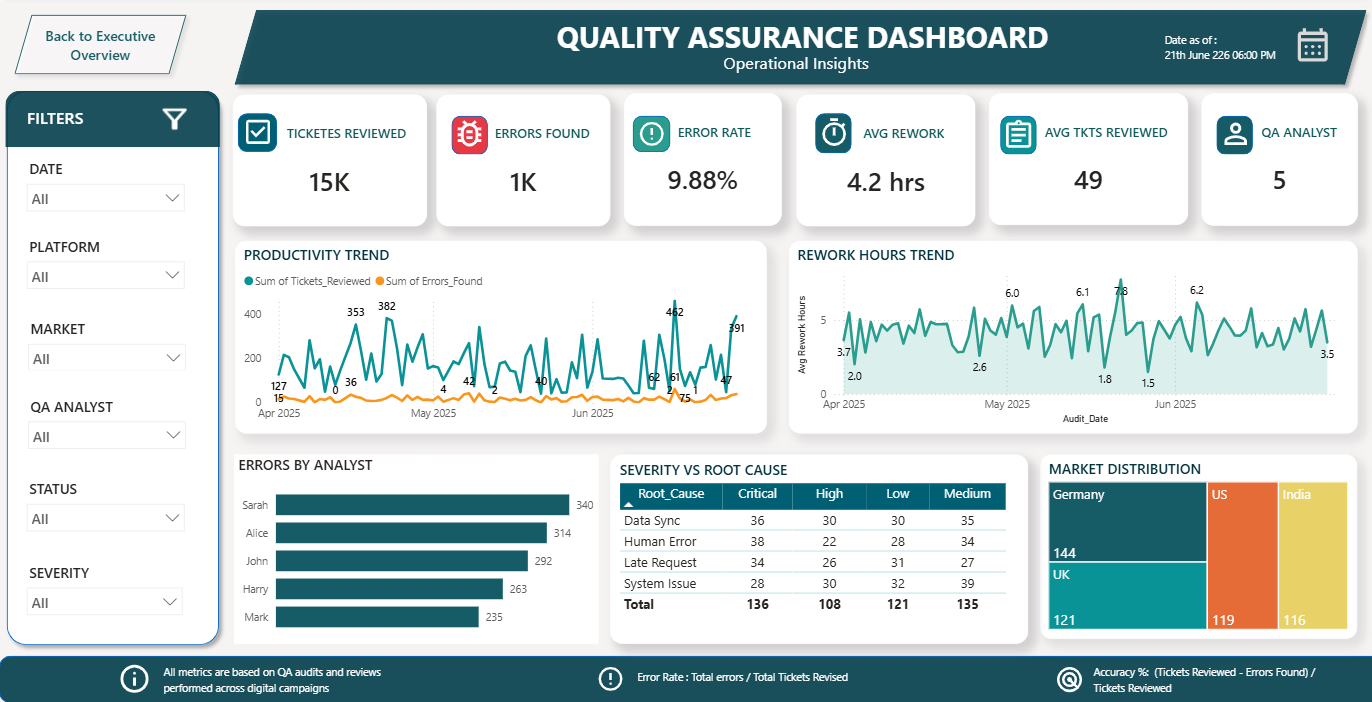

The dashboard page shown, as its layout file describes it:
{"tool":"powerbi","page":{"name":"OPERATIONAL INSIGHTS","canvas":[1570,800],"ordinal":1},"visuals":[{"type":"group","id":"g1","title":"Group 3","box":[260,0,1310,104.3],"z":0},{"type":"shape","box":[0,92.9,260,650],"z":0,"group":"g9"},{"type":"slicer","fields":{"Values":["Campaign_QA_Audit.Severity"]},"box":[21.2,635.5,197.7,85.3],"z":0,"group":"g11"},{"type":"shape","box":[7,101.1,245.1,64.6],"z":1000,"group":"g9"},{"type":"group","id":"g2","title":"Group 8","box":[267.1,105.7,221.4,150],"z":1000},{"type":"slicer","fields":{"Values":["Campaign_QA_Audit.Platform"]},"box":[21.2,263.2,200.4,88.4],"z":1000,"group":"g11"},{"type":"group","id":"g3","title":"Group 4","box":[0,92.9,260,650],"z":2000},{"type":"slicer","fields":{"Values":["Campaign_QA_Audit.QA_Analyst"]},"box":[22.6,446.2,200,70],"z":2000,"group":"g11"},{"type":"group","id":"g4","title":"Group 9","box":[499,105.7,198.6,150],"z":3000},{"type":"slicer","fields":{"Values":["Campaign_QA_Audit.Status"]},"box":[21.2,539.8,200.4,85.4],"z":3000,"group":"g11"},{"type":"slicer","fields":{"Values":["Campaign_QA_Audit.Market"]},"box":[22.8,357.7,200,64.3],"z":4000,"group":"g11"},{"type":"shape","box":[0,745.7,1587.1,54.3],"z":4000},{"type":"group","id":"g5","title":"Group 11","box":[712.9,104.3,180,151.4],"z":5000},{"type":"slicer","fields":{"Values":["Calendar.Date.Variation.Date Hierarchy.Month","Calendar.Date.Variation.Date Hierarchy.Day"]},"box":[21.2,174.8,200.4,80.7],"z":5000,"group":"g11"},{"type":"group","id":"g6","title":"Group 12","box":[910,105.7,204.1,150.6],"z":6000},{"type":"lineChart","title":"PRODUCTIVITY TREND","fields":{"Y":["Sum(QA_Productivity.Tickets_Reviewed)","Sum(QA_Productivity.Errors_Found)"],"Category":["Campaign_QA_Audit.Audit_Date"]},"box":[269.1,272.8,606.2,220],"z":7000},{"type":"group","id":"g7","title":"Group 13","box":[1130,104.3,227.1,150],"z":8000},{"type":"cardVisual","fields":{"Data":["Campaign_QA_Audit.Avg Tickets Reviewed"]},"box":[1130,104.3,227.1,150],"z":9000,"group":"g7"},{"type":"cardVisual","fields":{"Data":["Campaign_QA_Audit.TTotal Tickets Reviewed"]},"box":[267.1,105.7,221.4,150],"z":9000,"group":"g14"},{"type":"cardVisual","fields":{"Data":["Sum(QA_Productivity.Errors_Found)"]},"box":[499,105.7,198.6,150],"z":9000,"group":"g4"},{"type":"areaChart","title":"REWORK HOURS TREND","fields":{"Category":["Campaign_QA_Audit.Audit_Date"],"Y":["Campaign_QA_Audit.Avg Rework Hours"]},"box":[901.4,272.9,648.6,220],"z":9000},{"type":"shape","box":[260,0,1310,103.3],"z":10000,"group":"g1"},{"type":"group","id":"g8","title":"Group 14","box":[1371.4,104.3,178.6,151.4],"z":10000},{"type":"cardVisual","fields":{"Data":["Count(Campaign_QA_Audit.QA_Analyst)"]},"box":[1371.4,104.3,178.6,151.4],"z":10000,"group":"g8"},{"type":"textbox","box":[718.6,51.9,381.4,44.3],"z":11000,"group":"g1"},{"type":"cardVisual","fields":{"Data":["Campaign_QA_Audit.Error Rate %"]},"box":[712.9,104.3,180,151.4],"z":11000,"group":"g13"},{"type":"shape","box":[1142.9,130,41.4,44.3],"z":11000,"group":"g7"},{"type":"treemap","title":"MARKET DISTRIBUTION","fields":{"Group":["Campaign_QA_Audit.Market"],"Values":["CountNonNull(Campaign_QA_Audit.Campaign_ID)"]},"box":[1188.6,515.7,361.4,210],"z":11000},{"type":"group","id":"g9","title":"Group 1","box":[0,92.9,260,650],"z":12000,"group":"g3"},{"type":"cardVisual","fields":{"Data":["Campaign_QA_Audit.Avg Rework Label"]},"box":[910,105.7,204.1,150.6],"z":12000,"group":"g10"},{"type":"shape","box":[516.1,130,41.4,44.3],"z":12000,"group":"g4"},{"type":"shape","box":[1388.5,130,41.4,44.3],"z":12000,"group":"g8"},{"type":"barChart","title":"ERRORS BY ANALYST","fields":{"Category":["QA_Productivity.QA_Analyst"],"Y":["Sum(QA_Productivity.Errors_Found)"]},"box":[268.6,515.7,415.7,215.7],"z":12000},{"type":"group","id":"g10","title":"Group 5","box":[910,105.7,204.1,150.6],"z":13000,"group":"g6"},{"type":"shape","box":[273.3,127.1,44.9,44.3],"z":13000,"group":"g14"},{"type":"group","id":"g11","title":"Group 2","box":[21.2,174.8,201.6,546.1],"z":13000,"group":"g3"},{"type":"pivotTable","title":"SEVERITY VS ROOT CAUSE","fields":{"Rows":["Campaign_QA_Audit.Root_Cause"],"Values":["CountNonNull(Campaign_QA_Audit.Campaign_ID)"],"Columns":["Campaign_QA_Audit.Severity"]},"box":[697.1,515.7,477.1,215.7],"z":13000},{"type":"group","id":"g12","title":"Group 6","box":[712.9,104.3,180,151.4],"z":14000,"group":"g5"},{"type":"textbox","box":[22.9,114.5,82.9,41.4],"z":14000,"group":"g3"},{"type":"image","box":[929.1,131.6,48.6,35.7],"z":14000},{"type":"actionButton","box":[182.9,114.5,35.7,38.6],"z":15000,"group":"g3"},{"type":"image","box":[267.1,130,57.1,37.1],"z":15000},{"type":"image","box":[504.3,130,64.3,40],"z":16000},{"type":"image","box":[718.6,134.3,51.4,32.9],"z":17000},{"type":"image","box":[1475.7,21.4,45.7,55.7],"z":18000},{"type":"shape","box":[932,127.3,41.4,45.7],"z":18000,"group":"g10"},{"type":"shape","box":[723.1,129.6,42.9,41.4],"z":19000,"group":"g13"},{"type":"image","box":[1372.9,131.4,75.7,38.6],"z":19000},{"type":"image","box":[1141.4,132.9,44.3,38.6],"z":20000},{"type":"group","id":"g13","title":"Group 10","box":[712.9,104.3,180,151.4],"z":20001,"group":"g12"},{"type":"actionButton","box":[8.6,5.7,214.3,85.7],"z":21000},{"type":"group","id":"g14","title":"Group 7","box":[267.1,105.7,221.4,150],"z":22000,"group":"g2"},{"type":"image","box":[1200,755.7,44.3,34.3],"z":22000},{"type":"textbox","box":[182.9,750,450,50],"z":23000},{"type":"textbox","box":[722.9,755.7,288.6,40],"z":24000},{"type":"textbox","box":[1244.3,750,300,50],"z":25000},{"type":"image","box":[130,752.9,50,38.6],"z":26000},{"type":"image","box":[671.4,755.7,51.4,32.9],"z":27000},{"type":"textbox","box":[1324.3,28.6,225.7,48.6],"z":28000}]}

Visuals, with their boxes in screenshot pixels (x1, y1, x2, y2), scaled from the page's 1570x800 canvas onto the 1372x702 screenshot:
"Group 3" group: (left=227, top=0, right=1371, bottom=92)
shape: (left=0, top=82, right=227, bottom=652)
slicer - Campaign_QA_Audit.Severity: (left=19, top=558, right=191, bottom=633)
shape: (left=6, top=89, right=220, bottom=145)
"Group 8" group: (left=233, top=93, right=427, bottom=224)
slicer - Campaign_QA_Audit.Platform: (left=19, top=231, right=194, bottom=309)
"Group 4" group: (left=0, top=82, right=227, bottom=652)
slicer - Campaign_QA_Audit.QA_Analyst: (left=20, top=392, right=195, bottom=453)
"Group 9" group: (left=436, top=93, right=610, bottom=224)
slicer - Campaign_QA_Audit.Status: (left=19, top=474, right=194, bottom=549)
slicer - Campaign_QA_Audit.Market: (left=20, top=314, right=195, bottom=370)
shape: (left=0, top=654, right=1371, bottom=701)
"Group 11" group: (left=623, top=92, right=780, bottom=224)
slicer - Calendar.Date.Variation.Date Hierarchy.Month x Calendar.Date.Variation.Date Hierarchy.Day: (left=19, top=153, right=194, bottom=224)
"Group 12" group: (left=795, top=93, right=974, bottom=225)
"PRODUCTIVITY TREND" lineChart: (left=235, top=239, right=765, bottom=432)
"Group 13" group: (left=987, top=92, right=1186, bottom=223)
cardVisual - Campaign_QA_Audit.Avg Tickets Reviewed: (left=987, top=92, right=1186, bottom=223)
cardVisual - Campaign_QA_Audit.TTotal Tickets Reviewed: (left=233, top=93, right=427, bottom=224)
cardVisual - Sum(QA_Productivity.Errors_Found): (left=436, top=93, right=610, bottom=224)
"REWORK HOURS TREND" areaChart: (left=788, top=239, right=1355, bottom=433)
shape: (left=227, top=0, right=1371, bottom=91)
"Group 14" group: (left=1198, top=92, right=1355, bottom=224)
cardVisual - Count(Campaign_QA_Audit.QA_Analyst): (left=1198, top=92, right=1355, bottom=224)
textbox: (left=628, top=46, right=961, bottom=84)
cardVisual - Campaign_QA_Audit.Error Rate %: (left=623, top=92, right=780, bottom=224)
shape: (left=999, top=114, right=1035, bottom=153)
"MARKET DISTRIBUTION" treemap: (left=1039, top=453, right=1355, bottom=637)
"Group 1" group: (left=0, top=82, right=227, bottom=652)
cardVisual - Campaign_QA_Audit.Avg Rework Label: (left=795, top=93, right=974, bottom=225)
shape: (left=451, top=114, right=487, bottom=153)
shape: (left=1213, top=114, right=1250, bottom=153)
"ERRORS BY ANALYST" barChart: (left=235, top=453, right=598, bottom=642)
"Group 5" group: (left=795, top=93, right=974, bottom=225)
shape: (left=239, top=112, right=278, bottom=150)
"Group 2" group: (left=19, top=153, right=195, bottom=633)
"SEVERITY VS ROOT CAUSE" pivotTable: (left=609, top=453, right=1026, bottom=642)
"Group 6" group: (left=623, top=92, right=780, bottom=224)
textbox: (left=20, top=100, right=92, bottom=137)
image: (left=812, top=115, right=854, bottom=147)
actionButton: (left=160, top=100, right=191, bottom=134)
image: (left=233, top=114, right=283, bottom=147)
image: (left=441, top=114, right=497, bottom=149)
image: (left=628, top=118, right=673, bottom=147)
image: (left=1290, top=19, right=1330, bottom=68)
shape: (left=814, top=112, right=851, bottom=152)
shape: (left=632, top=114, right=669, bottom=150)
image: (left=1200, top=115, right=1266, bottom=149)
image: (left=997, top=117, right=1036, bottom=150)
"Group 10" group: (left=623, top=92, right=780, bottom=224)
actionButton: (left=8, top=5, right=195, bottom=80)
"Group 7" group: (left=233, top=93, right=427, bottom=224)
image: (left=1049, top=663, right=1087, bottom=693)
textbox: (left=160, top=658, right=553, bottom=701)
textbox: (left=632, top=663, right=884, bottom=698)
textbox: (left=1087, top=658, right=1350, bottom=701)
image: (left=114, top=661, right=157, bottom=695)
image: (left=587, top=663, right=632, bottom=692)
textbox: (left=1157, top=25, right=1355, bottom=68)
